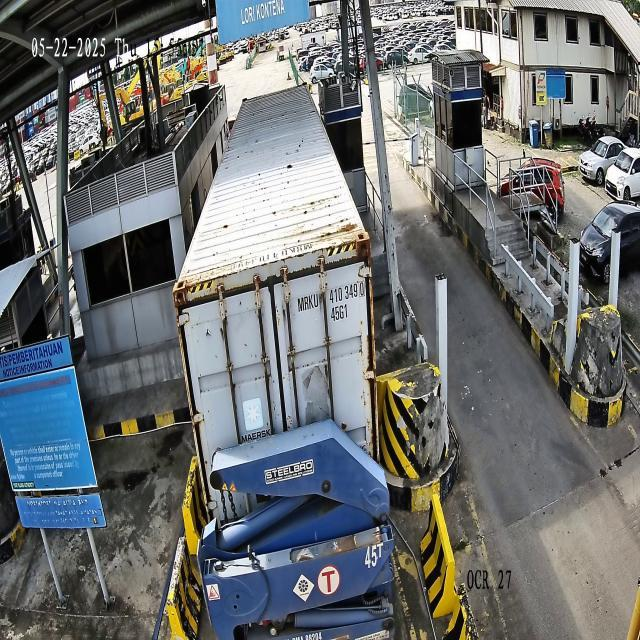ISO: (331, 304, 348, 324)
container_number: (297, 279, 365, 314)
